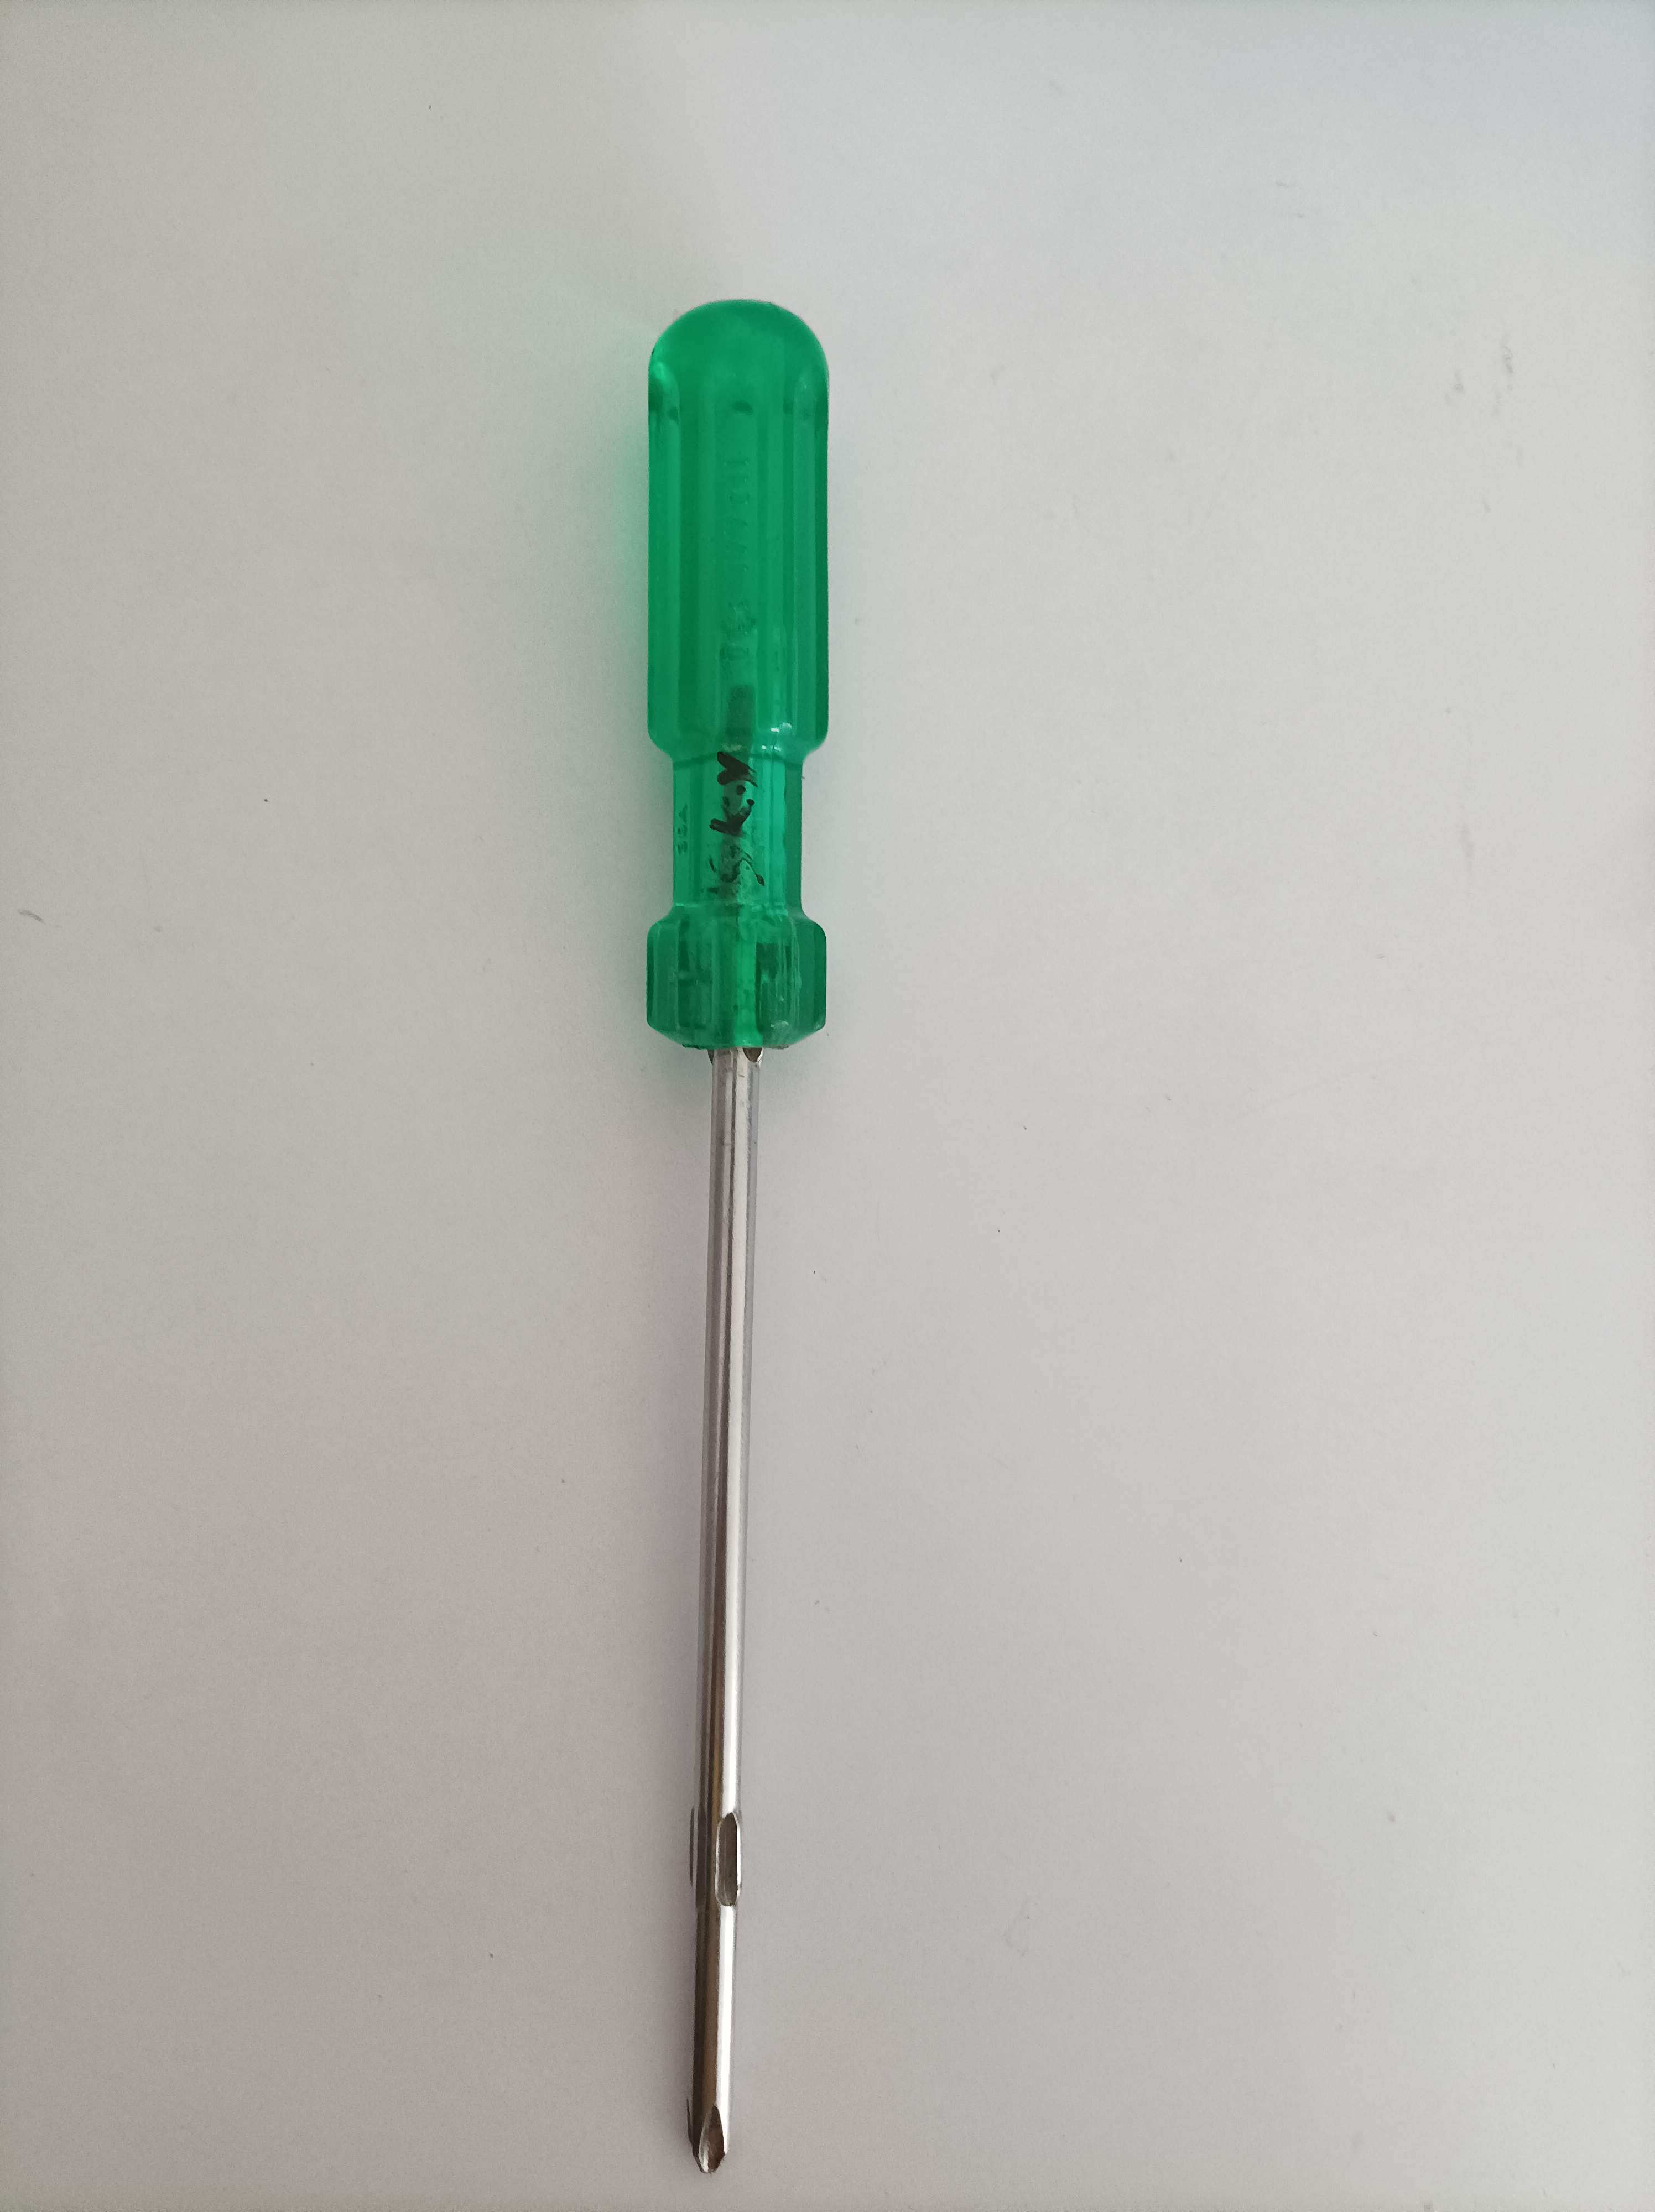screwdriver: (631, 287, 848, 2189)
